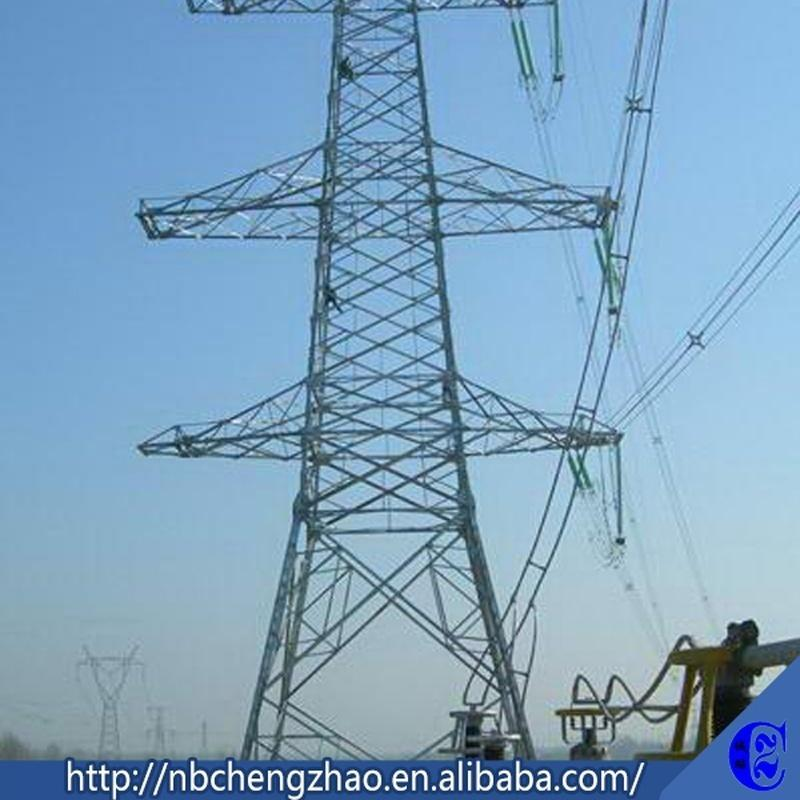power_tower: (134, 0, 626, 759), (67, 644, 152, 764), (136, 696, 176, 760)
